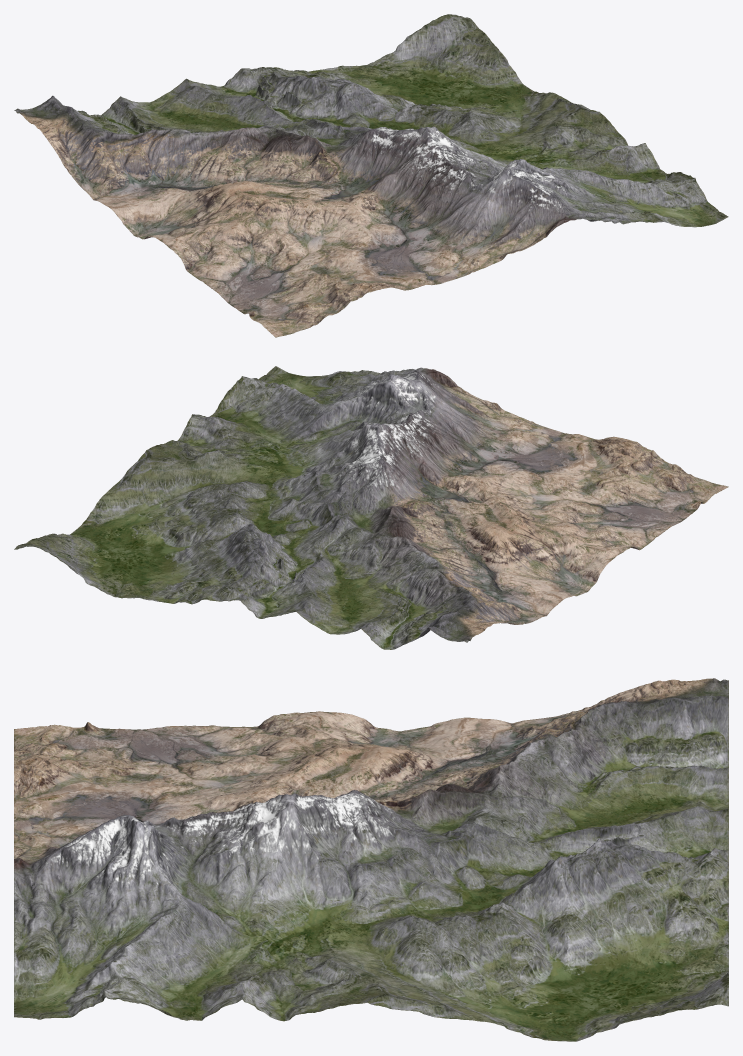
Rendered from mountain_range_01_optimized.glb.
3 renders of one model, top to bottom at view 1: azimuth 30°, elevation 25°; view 2: azimuth 150°, elevation 25°; view 3: azimuth 270°, elevation 25°, orthographic. The views are drawn at different scales.
Parts seen in each view (by area): view 1: Object_2; view 2: Object_2; view 3: Object_2.
Part boxes in pixels (x1=…): Object_2: x1=14, y1=14, x2=728, y2=337; Object_2: x1=14, y1=366, x2=728, y2=649; Object_2: x1=14, y1=678, x2=728, y2=1041.
Bounding box in the file's own units: 1 × 0.1741 × 1.
1 material, 1 textured.
